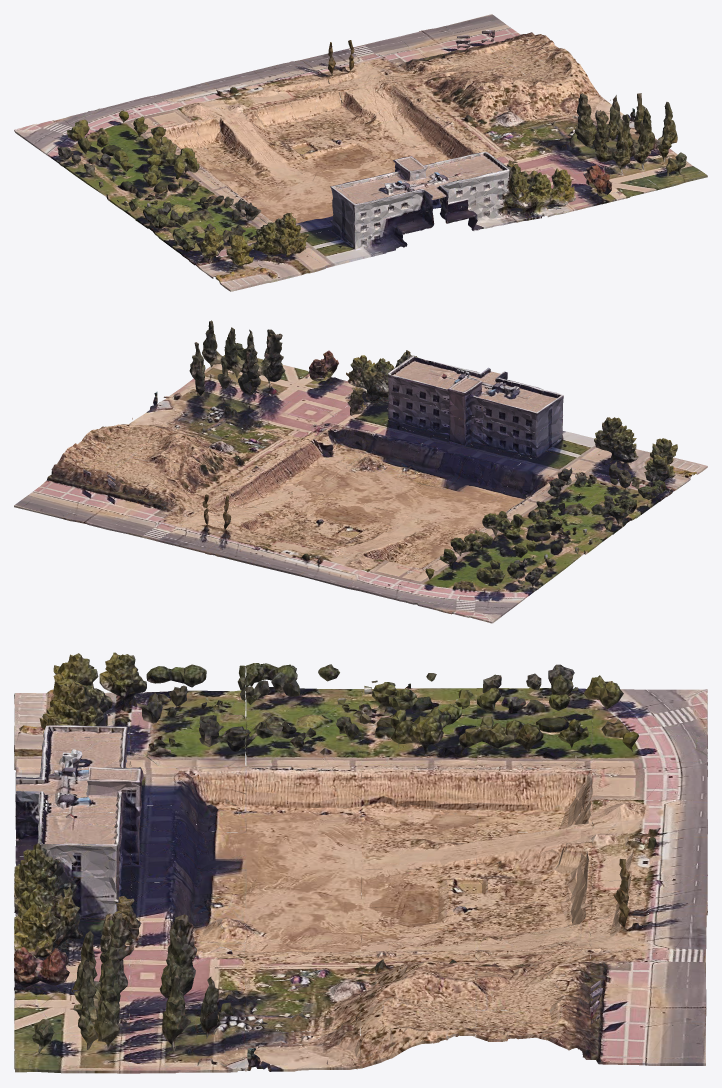
File: URJC_excavation.dae
3 views of the same model, one above another, from view 1: azimuth 30°, elevation 25°; view 2: azimuth 150°, elevation 25°; view 3: azimuth 270°, elevation 25° (orthographic). The views are drawn at different scales.
Parts seen in each view (by area): view 1: Mesh_0.098; view 2: Mesh_0.098; view 3: Mesh_0.098.
Boxes of the visible parts, x1,y1,x2,y2 form: Mesh_0.098: [14, 14, 707, 291]; Mesh_0.098: [14, 320, 707, 623]; Mesh_0.098: [14, 652, 707, 1073].
Size of the model in its own units: 146 by 115 by 22.97.
Materials: 18 (18 with a texture image).
